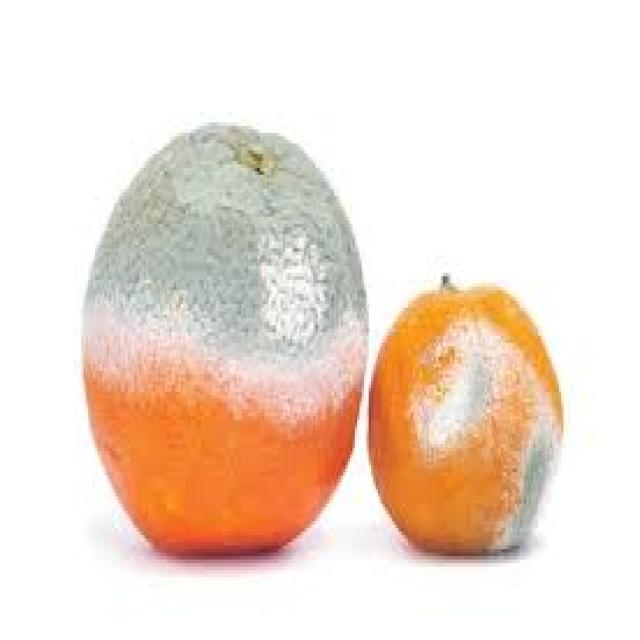food_waste: (83, 122, 366, 549), (366, 273, 559, 546)
